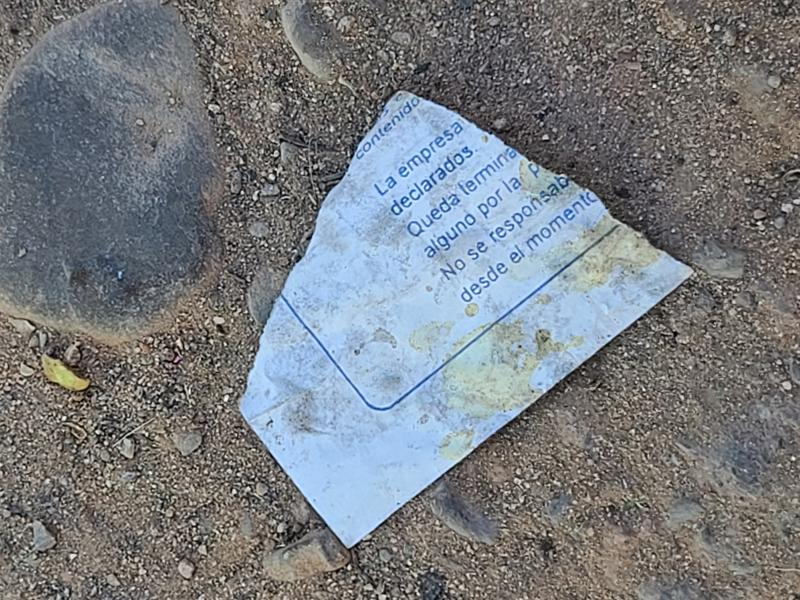papel: (238, 93, 693, 552)
